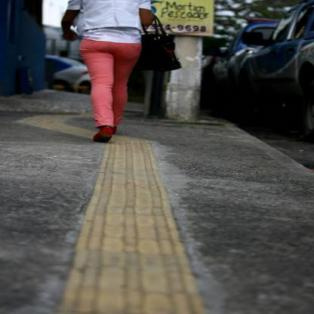Podoctatil: (55, 144, 210, 313)
